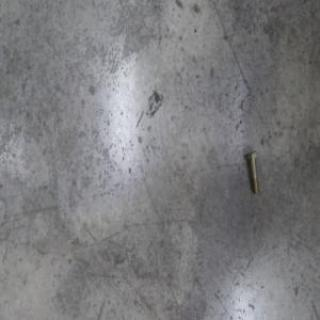Bolttrack_idkeyframe: (245, 149, 259, 194)
